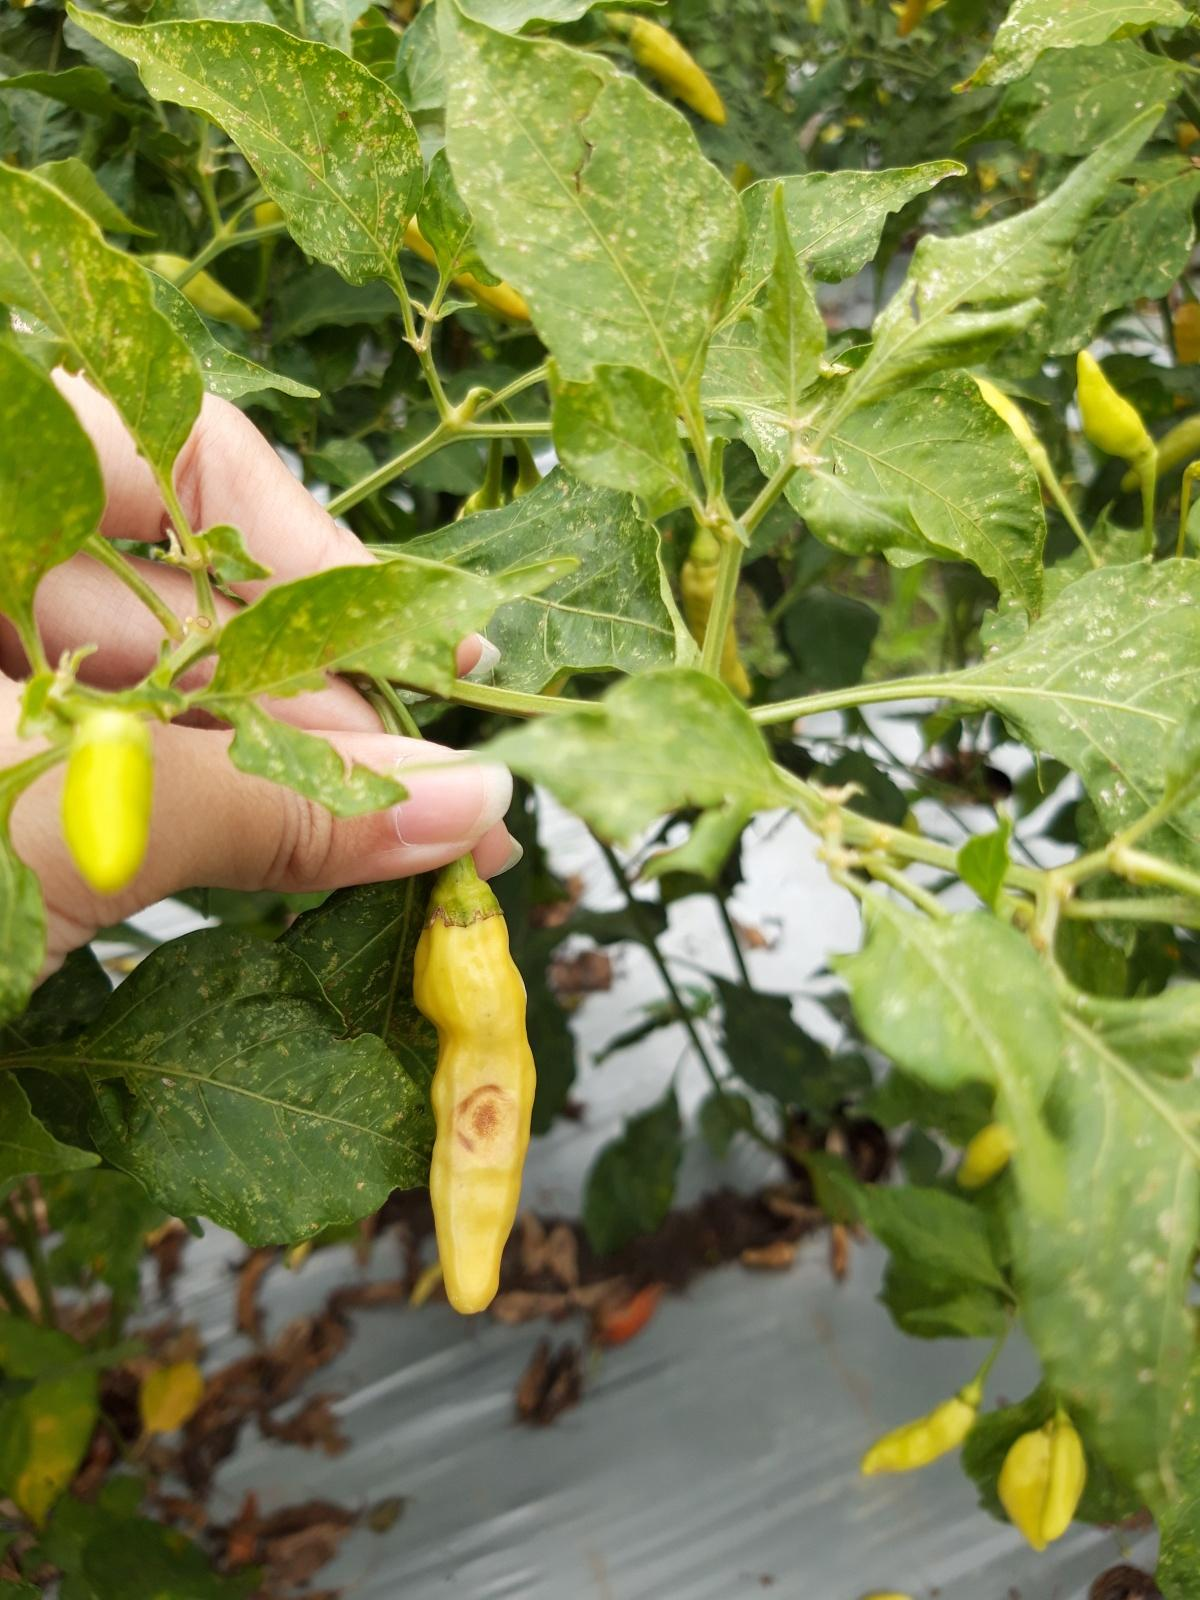cabai_normal: (64, 708, 151, 898), (610, 12, 724, 124), (862, 1384, 980, 1478), (1075, 349, 1156, 466), (998, 1418, 1056, 1554), (1040, 1412, 1084, 1544)
lalat_buah: (412, 880, 538, 1314)
